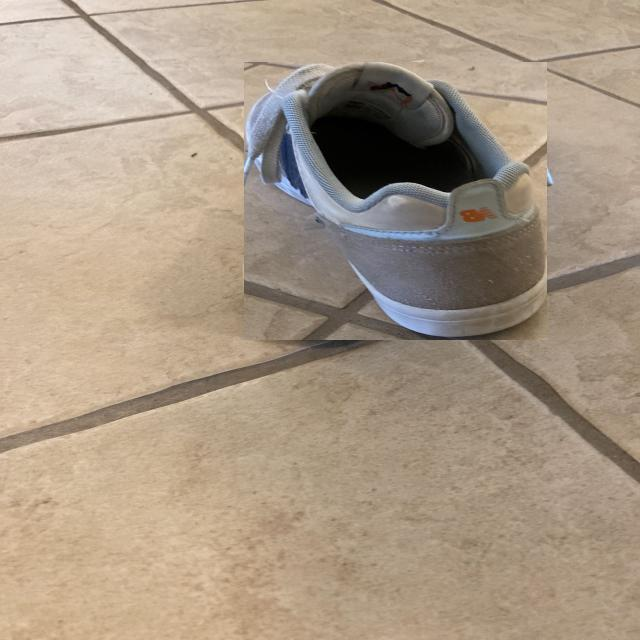shoe: (244, 62, 547, 340)
